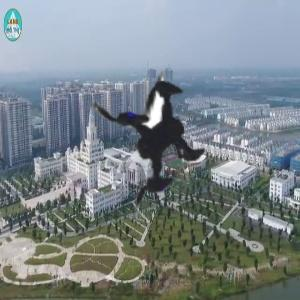drone: (43, 14, 294, 265)
